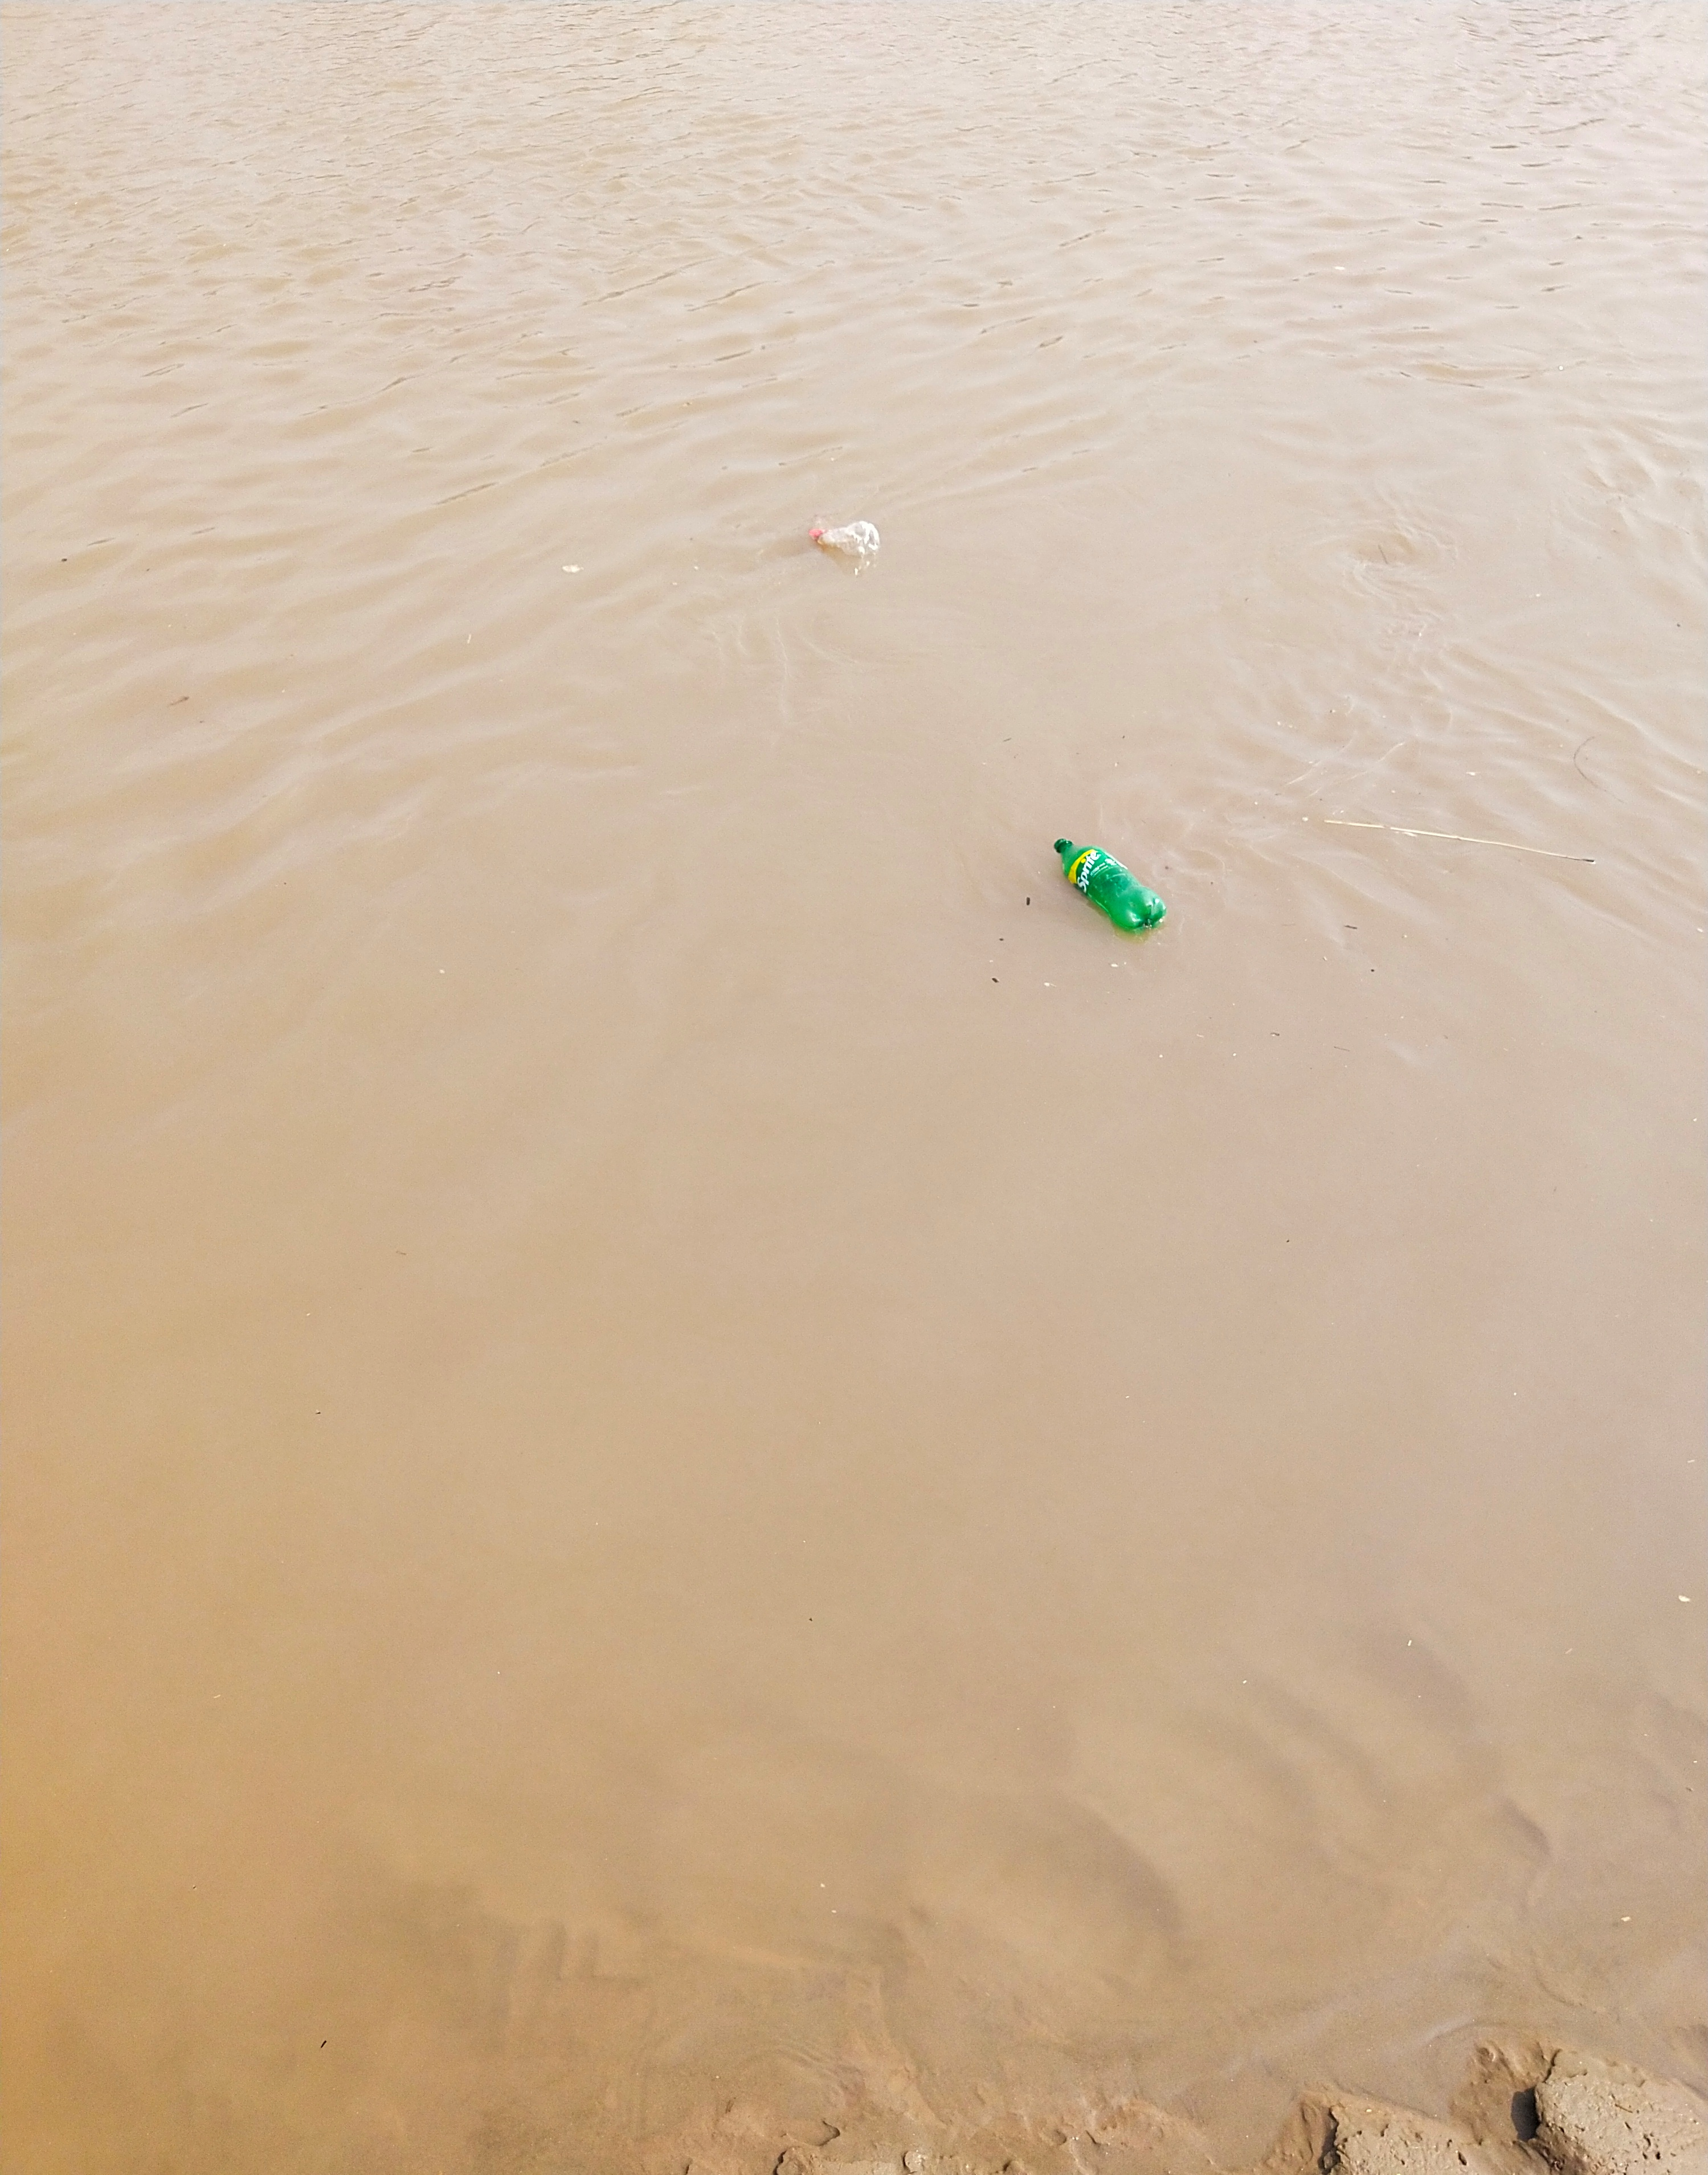Plastic Bottle: (1054, 839, 1168, 932), (809, 519, 880, 556)
